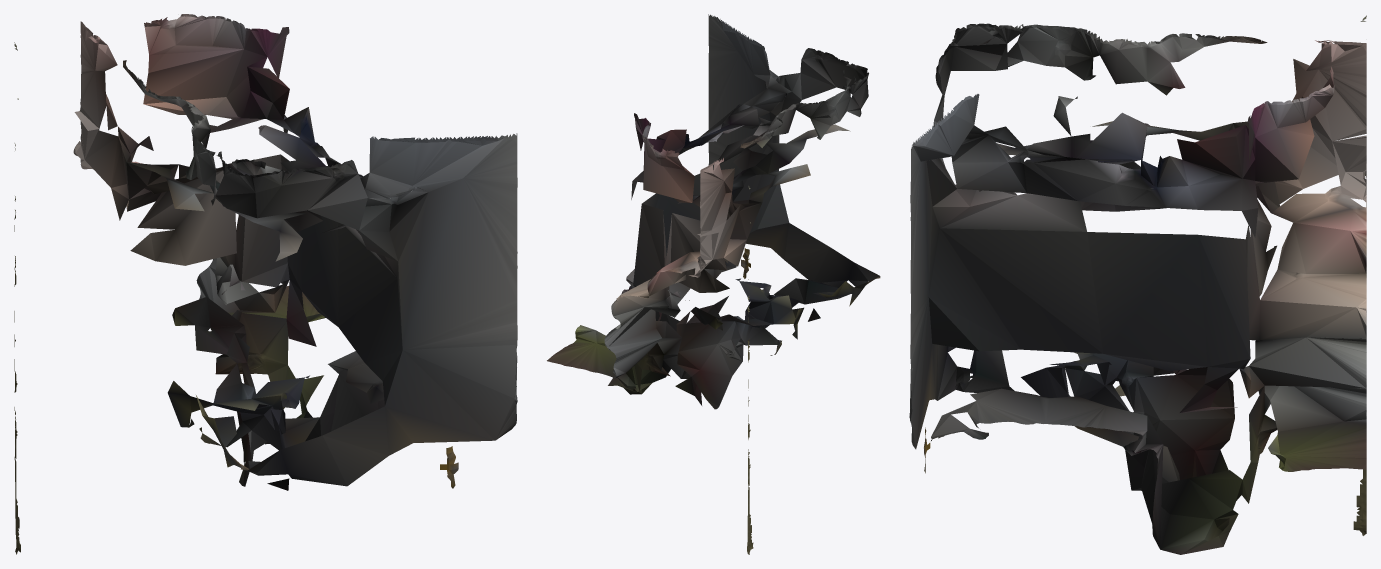
The model's file is coarse.glb.
3 views of the same model, side by side, from view 1: azimuth 30°, elevation 25°; view 2: azimuth 150°, elevation 25°; view 3: azimuth 270°, elevation 25° (orthographic). The views are drawn at different scales.
Size of the model in its own units: 0.9183 by 1.62 by 1.28.
